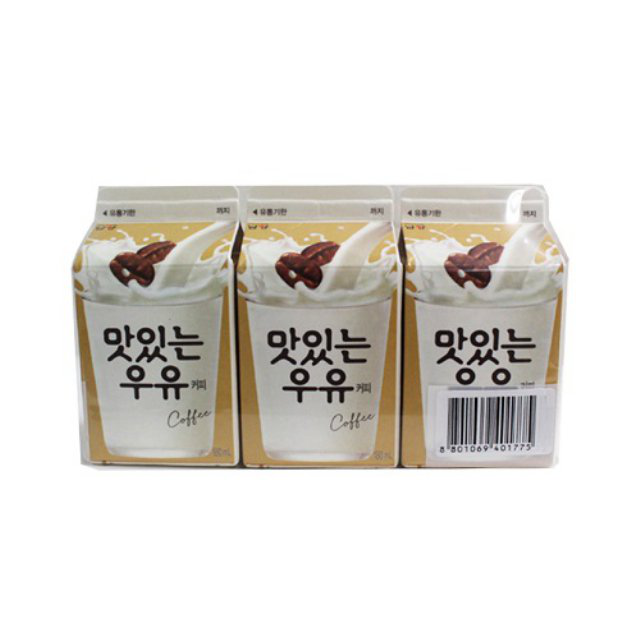milk: (72, 186, 566, 467)
